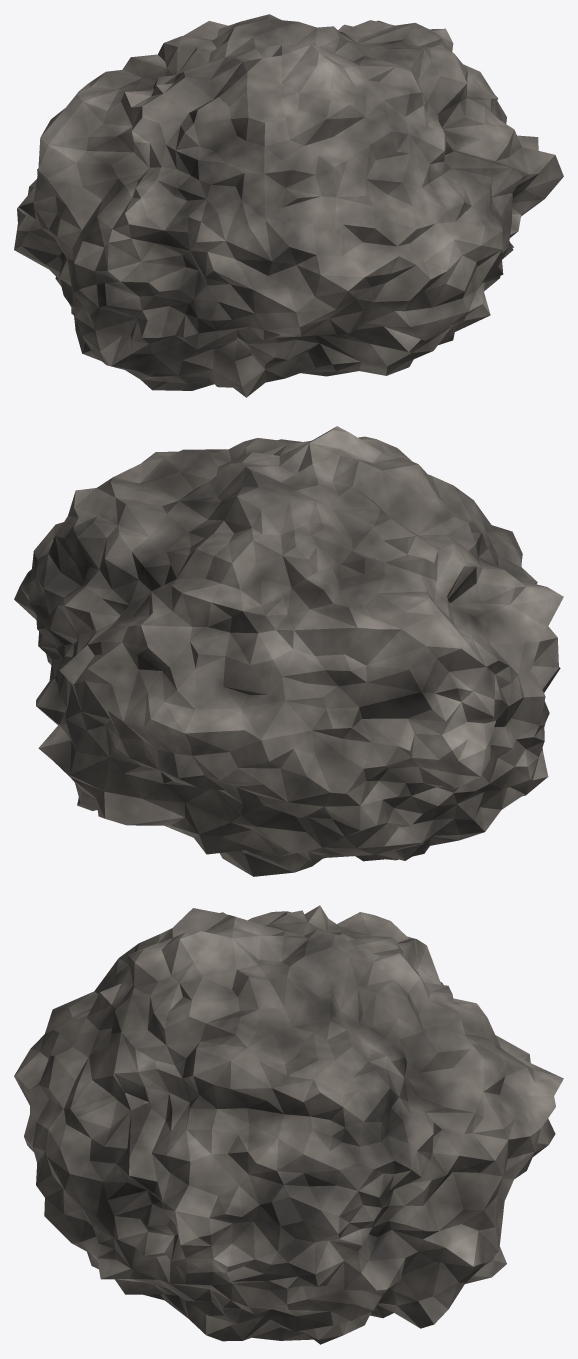
Rendered from Asteroide3.fbx.
The picture shows the model from 3 angles, top to bottom: view 1: azimuth 30°, elevation 25°; view 2: azimuth 150°, elevation 25°; view 3: azimuth 270°, elevation 25°; orthographic projection. The views are drawn at different scales.
Parts seen in each view (by area): view 1: Asteroide3; view 2: Asteroide3; view 3: Asteroide3.
Boxes of the visible parts, left/top/right/bottom form: Asteroide3: left=14, top=14, right=563, bottom=397; Asteroide3: left=14, top=426, right=563, bottom=876; Asteroide3: left=14, top=905, right=563, bottom=1344.
Size of the model in its own units: 188 by 134 by 178.
